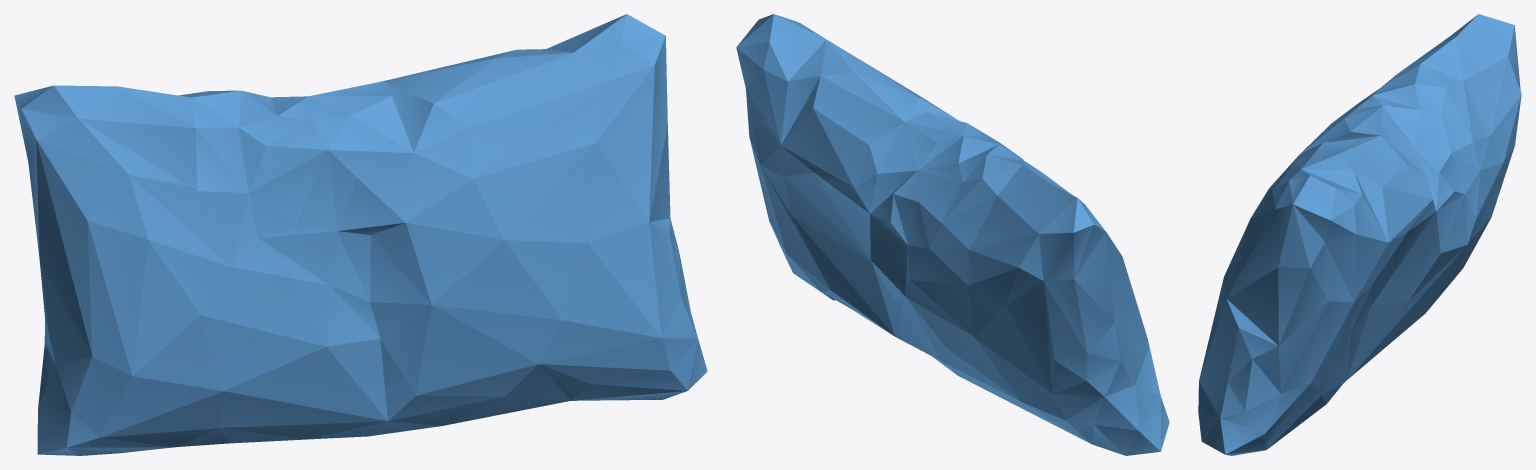
Rendered from sofa_pillow4.fbx.
The picture shows the model from 3 angles, left to right: view 1: azimuth 30°, elevation 25°; view 2: azimuth 150°, elevation 25°; view 3: azimuth 270°, elevation 25°; orthographic projection. The views are drawn at different scales.
Visible parts, largest first — view 1: sofa_pillow4; view 2: sofa_pillow4; view 3: sofa_pillow4.
Part boxes in pixels (x1,y1,x2,y2): sofa_pillow4: (14,14,707,455); sofa_pillow4: (736,14,1169,455); sofa_pillow4: (1198,14,1521,455).
Size of the model in its own units: 370 by 226 by 225.
